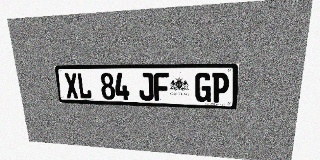4: (114, 73, 129, 100)
8: (100, 73, 115, 100)
F: (154, 73, 169, 101)
G: (195, 73, 212, 102)
J: (138, 73, 154, 101)
L: (77, 73, 92, 99)
P: (211, 73, 230, 103)
X: (64, 73, 79, 99)
